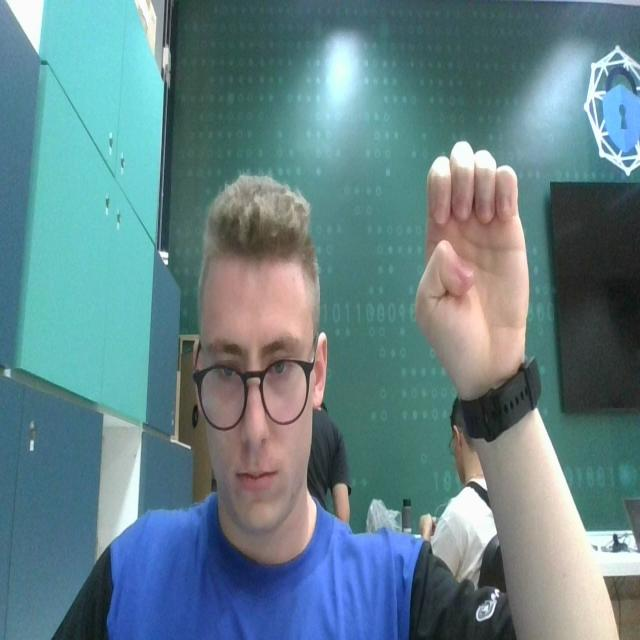E: (411, 131, 534, 377)
